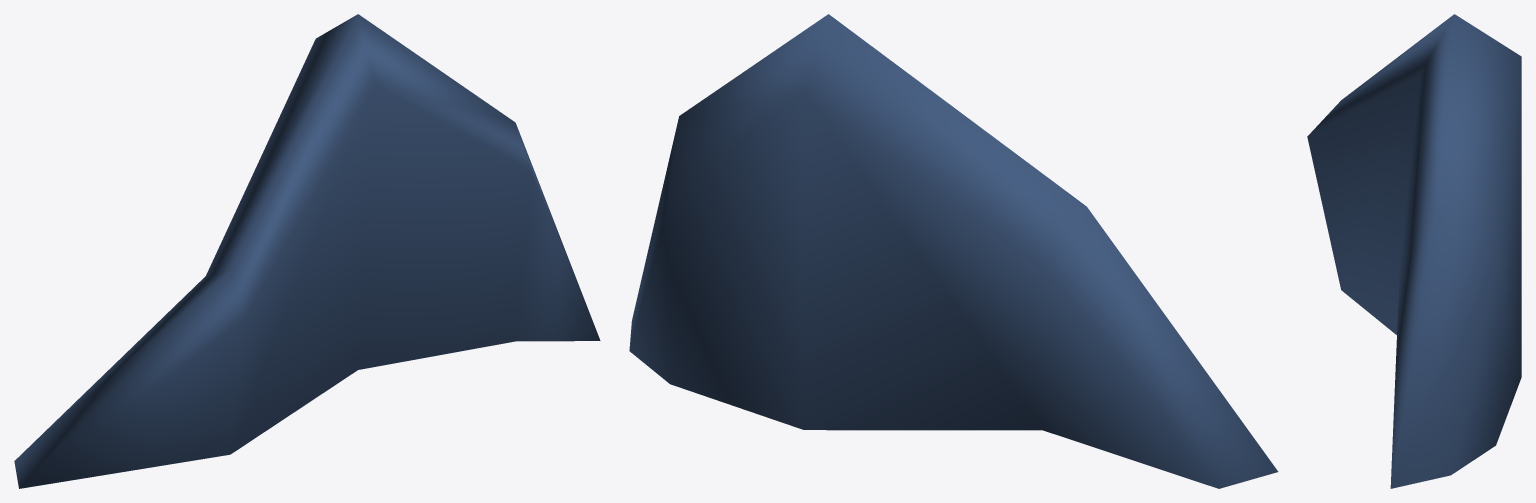
The model's file is Montaña_04.fbx.
The picture shows the model from 3 angles, left to right: view 1: azimuth 30°, elevation 25°; view 2: azimuth 150°, elevation 25°; view 3: azimuth 270°, elevation 25°; orthographic projection. The views are drawn at different scales.
Visible parts, largest first — view 1: Montaña_04; view 2: Montaña_04; view 3: Montaña_04.
Part boxes in pixels (left/top/right/bottom): Montaña_04: left=14, top=14, right=600, bottom=488; Montaña_04: left=629, top=14, right=1278, bottom=488; Montaña_04: left=1307, top=14, right=1521, bottom=488.
Bounding box in the file's own units: 37.32 × 21.6 × 11.4.
